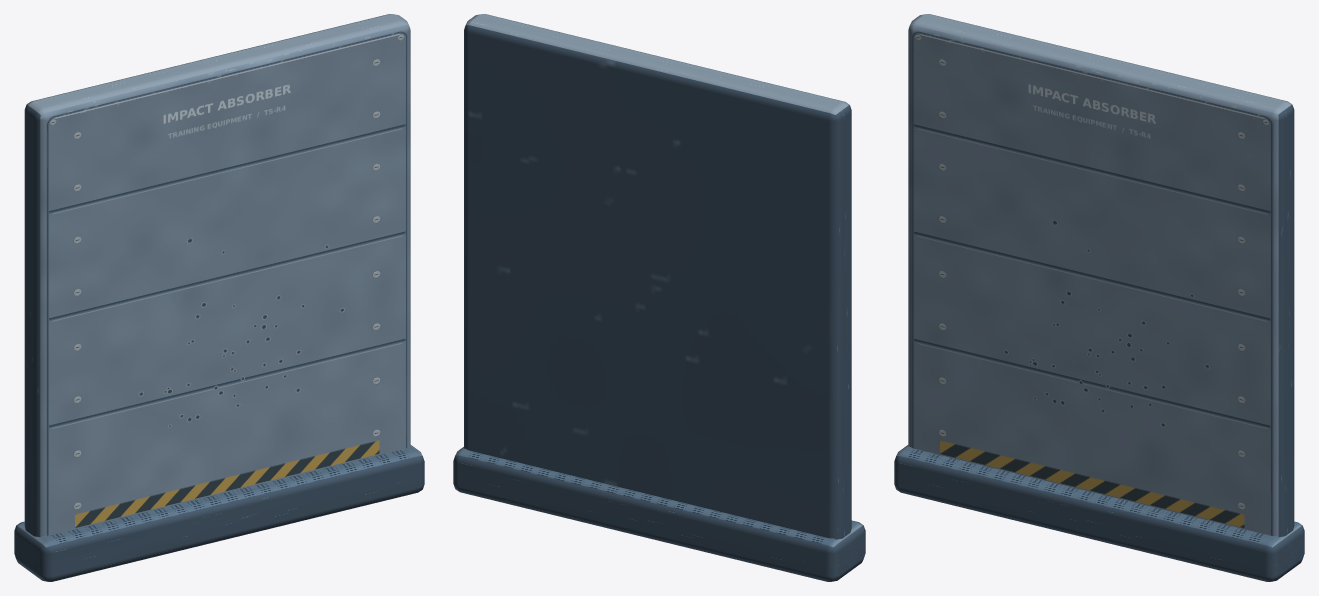
Rendered from SM_BackstopPanel.glb.
3 renders of one model, left to right at view 1: azimuth 30°, elevation 25°; view 2: azimuth 150°, elevation 25°; view 3: azimuth 330°, elevation 25°, orthographic.
Parts seen in each view (by area): view 1: SM_BackstopPanel; view 2: SM_BackstopPanel; view 3: SM_BackstopPanel.
Boxes of the visible parts, bbox=[...] form: SM_BackstopPanel: bbox=[14, 14, 424, 581]; SM_BackstopPanel: bbox=[453, 14, 865, 581]; SM_BackstopPanel: bbox=[894, 14, 1304, 581].
Size of the model in its own units: 1.92 by 2.23 by 0.3.
1 material, 1 textured.
